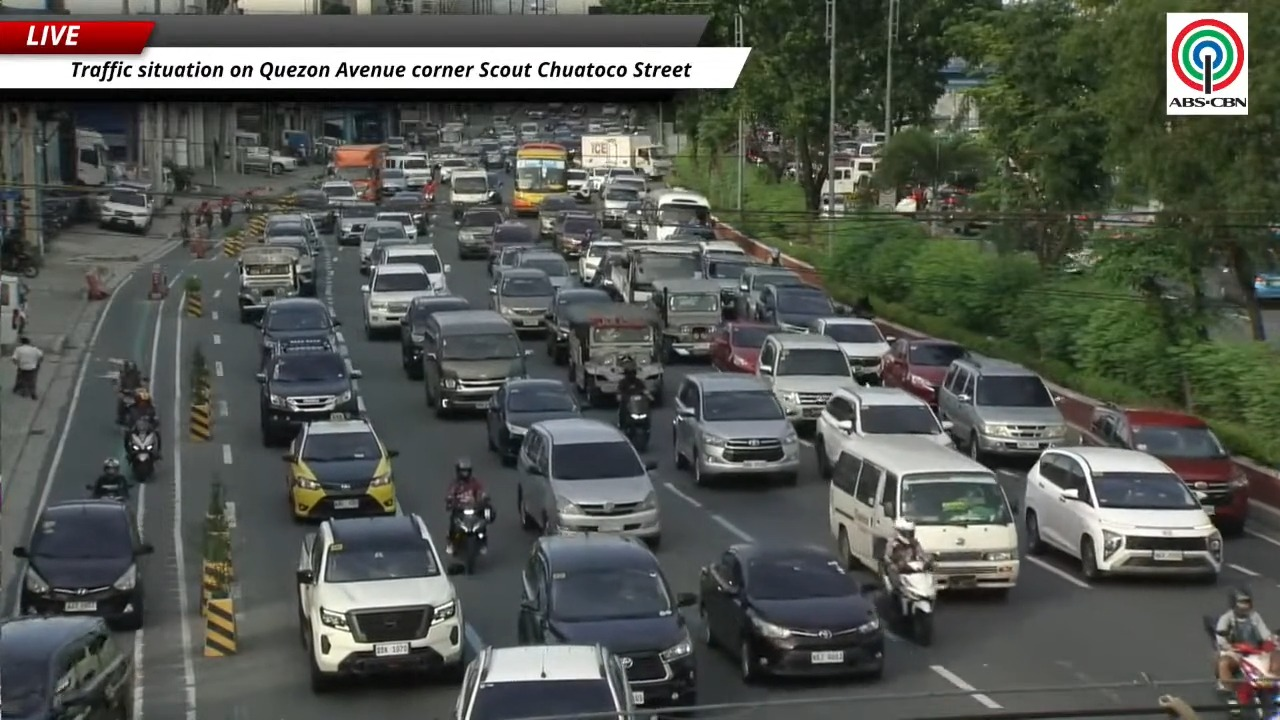bus: (512, 143, 568, 215)
car: (517, 535, 697, 709), (296, 515, 463, 692), (1023, 446, 1223, 580), (699, 544, 884, 681), (1089, 406, 1248, 534), (517, 418, 660, 546), (13, 499, 153, 629), (673, 373, 799, 485), (0, 616, 134, 719), (456, 644, 634, 719), (938, 356, 1066, 460), (814, 386, 952, 476), (422, 311, 531, 417), (284, 418, 397, 520), (257, 345, 360, 446), (756, 333, 854, 426), (486, 378, 580, 464), (881, 338, 968, 407), (809, 317, 895, 384), (401, 295, 469, 379), (361, 262, 435, 339), (255, 298, 338, 361), (545, 286, 612, 364), (490, 267, 554, 332), (754, 285, 839, 332), (735, 265, 803, 319), (710, 321, 780, 373), (701, 251, 755, 318), (378, 244, 451, 293), (264, 235, 317, 295), (359, 215, 410, 273), (455, 207, 504, 258), (554, 211, 606, 259), (585, 247, 628, 301), (516, 248, 570, 289), (381, 192, 428, 235), (578, 239, 624, 282), (488, 220, 537, 259), (369, 237, 432, 267), (335, 202, 377, 245), (295, 189, 335, 232), (600, 185, 640, 227), (538, 194, 577, 236), (263, 213, 318, 242), (488, 246, 532, 281), (377, 208, 418, 238), (319, 180, 360, 205), (1252, 270, 1279, 303), (700, 241, 749, 257), (379, 168, 407, 196), (621, 201, 642, 238), (566, 168, 588, 200)
motorcycle: (882, 559, 937, 646), (1225, 643, 1279, 719), (450, 504, 491, 574), (620, 394, 650, 452), (128, 431, 157, 482), (0, 243, 39, 277), (85, 478, 128, 502), (116, 389, 136, 426)
truck: (579, 134, 671, 178), (328, 144, 385, 201), (75, 127, 113, 186), (579, 135, 631, 169), (240, 146, 297, 174)
